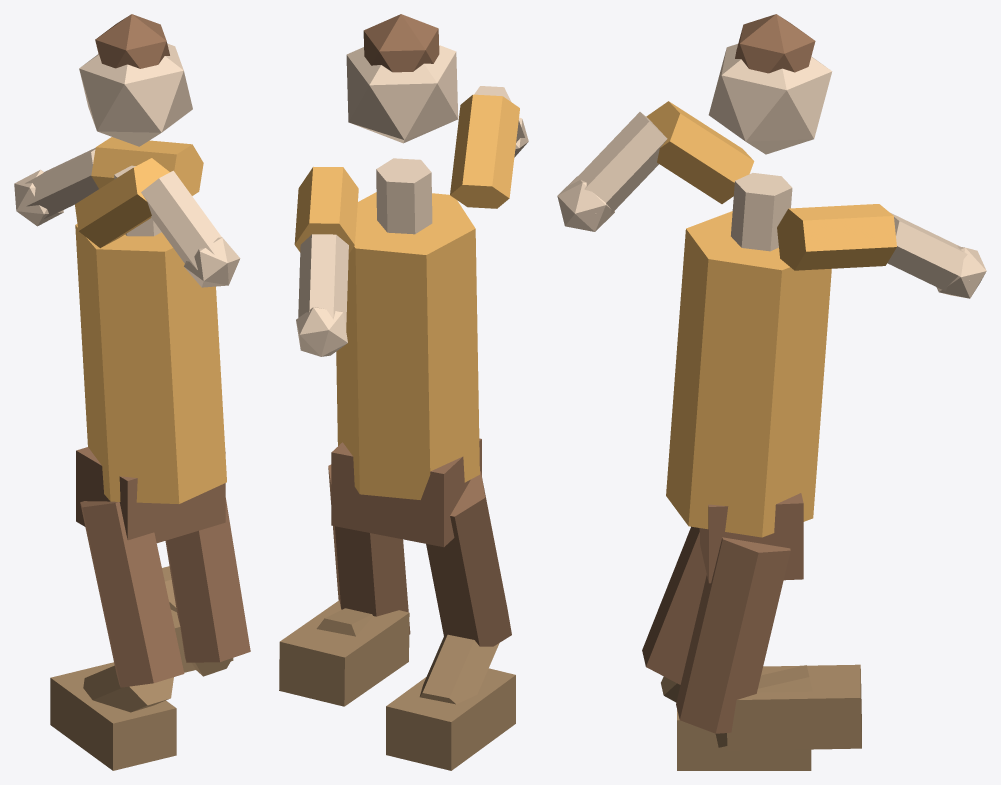
File: pose_attack_1_11.glb
The picture shows the model from 3 angles, left to right: view 1: azimuth 30°, elevation 25°; view 2: azimuth 150°, elevation 25°; view 3: azimuth 270°, elevation 25°; orthographic projection. The views are drawn at different scales.
Parts seen in each view (by area): view 1: pose; view 2: pose; view 3: pose.
Boxes of the visible parts, x1,y1,x2,y2 form: pose: (14, 14, 250, 770); pose: (279, 14, 528, 770); pose: (557, 14, 986, 770).
Bounding box in the file's own units: 0.3691 × 1.49 × 0.7666.
